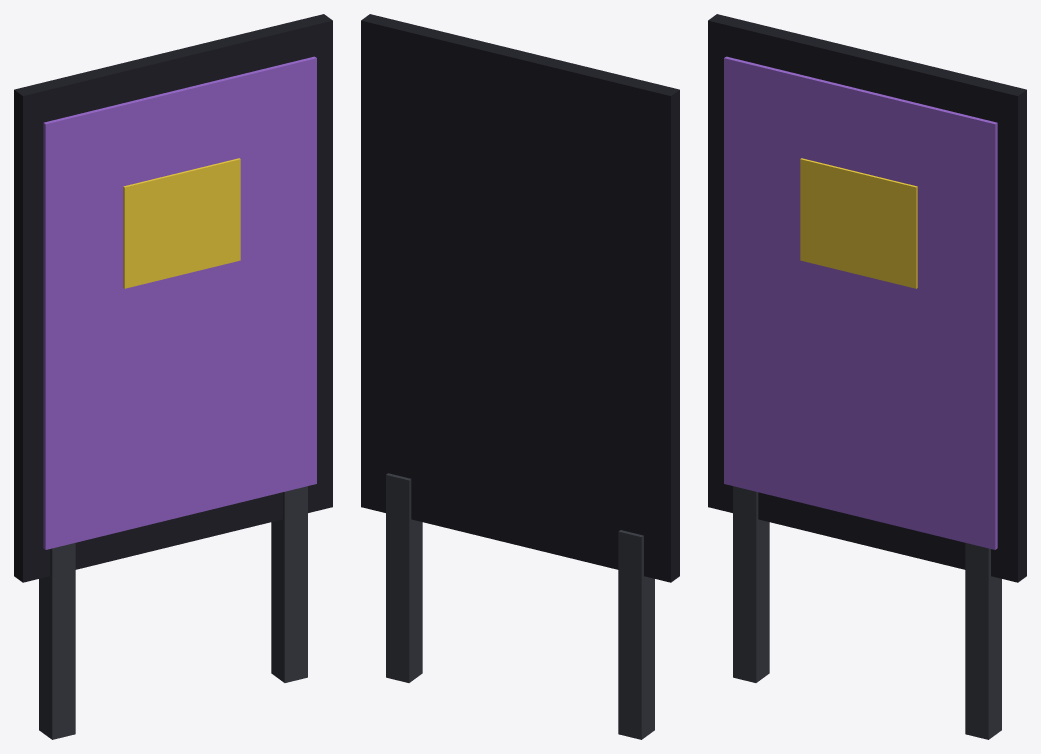
The model's file is movie_poster_stand.fbx.
3 views of the same model, side by side, from view 1: azimuth 30°, elevation 25°; view 2: azimuth 150°, elevation 25°; view 3: azimuth 330°, elevation 25° (orthographic).
Parts seen in each view (by area): view 1: movie_poster_stand; view 2: movie_poster_stand; view 3: movie_poster_stand.
Part boxes in pixels (left/top/right/bottom): movie_poster_stand: left=14, top=14, right=332, bottom=739; movie_poster_stand: left=361, top=14, right=679, bottom=739; movie_poster_stand: left=708, top=14, right=1026, bottom=739.
Size of the model in its own units: 0.8 by 1.6 by 0.071.
